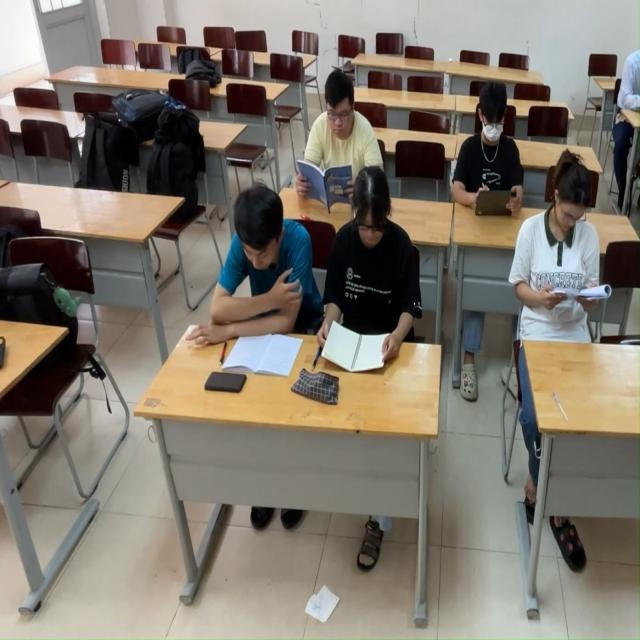read: (305, 163, 430, 375), (188, 180, 321, 375), (509, 146, 618, 347), (442, 84, 538, 224), (298, 59, 364, 214)
